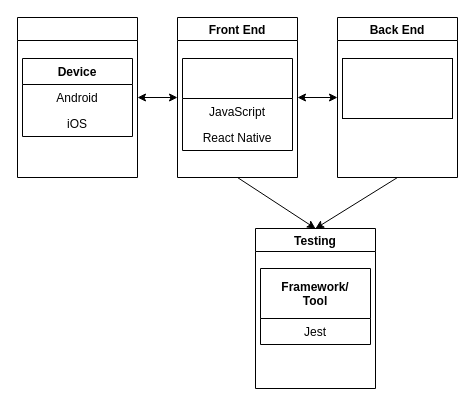
Image size: 475x406. Some labels were removed from this diagram. Here are the shapes that lost their labels. From the top down, the box of each, then its label:
(16, 16, 138, 178): Client
(182, 58, 292, 150): Language/ Framework
(342, 58, 452, 118): Firebase
